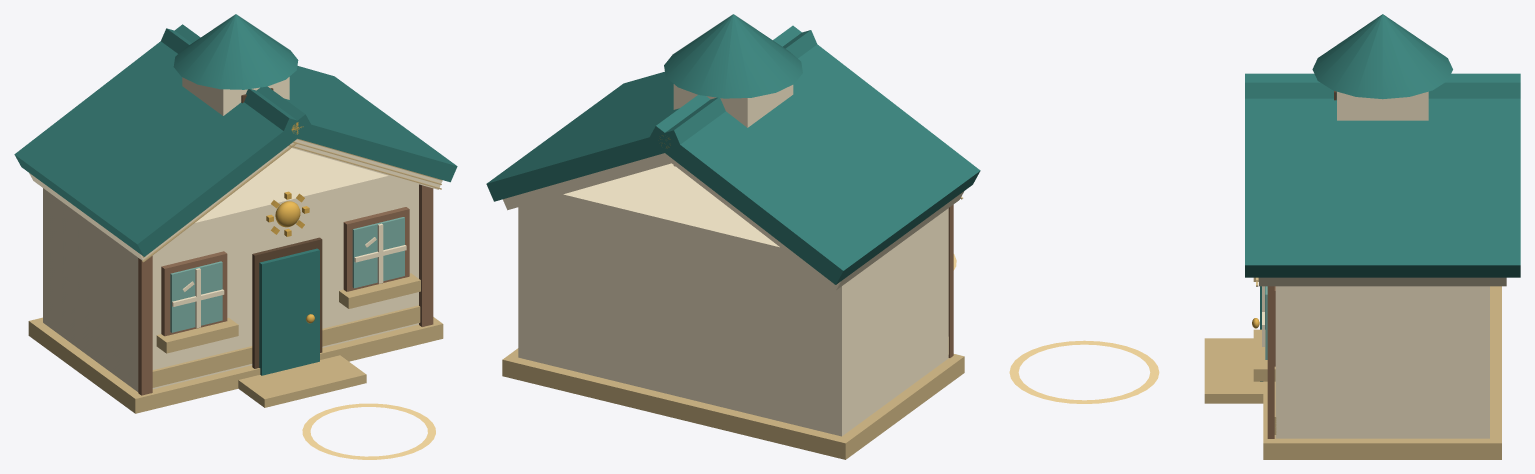
File: training-school.glb
3 renders of one model, left to right at view 1: azimuth 30°, elevation 25°; view 2: azimuth 150°, elevation 25°; view 3: azimuth 270°, elevation 25°, orthographic. The views are drawn at different scales.
Parts seen in each view (by area): view 1: training-school, door, chapter-marker; view 2: training-school; view 3: training-school, chapter-marker.
Boxes of the visible parts, x1,y1,x2,y2 form: training-school: [14, 14, 457, 413]; door: [259, 248, 319, 375]; chapter-marker: [302, 403, 435, 459]; training-school: [486, 14, 980, 459]; training-school: [1204, 14, 1520, 459]; chapter-marker: [1009, 340, 1159, 403].
Size of the model in its own units: 2.7 by 2.61 by 3.34.
